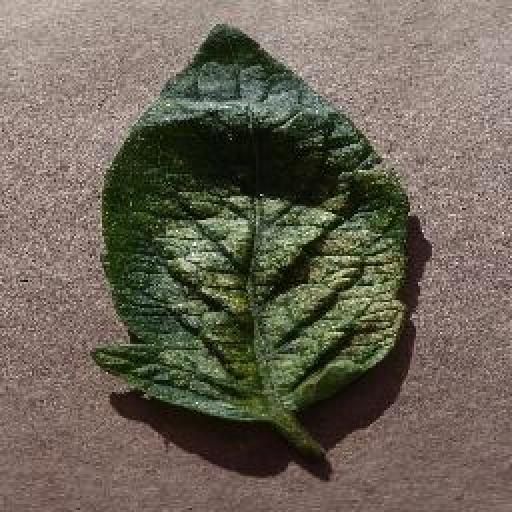disease_tomato: (88, 23, 412, 421)
